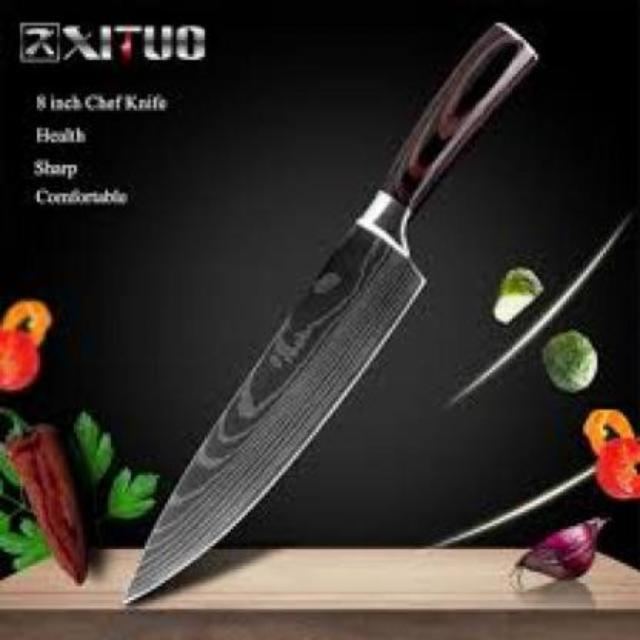Knife: (122, 31, 538, 598)
